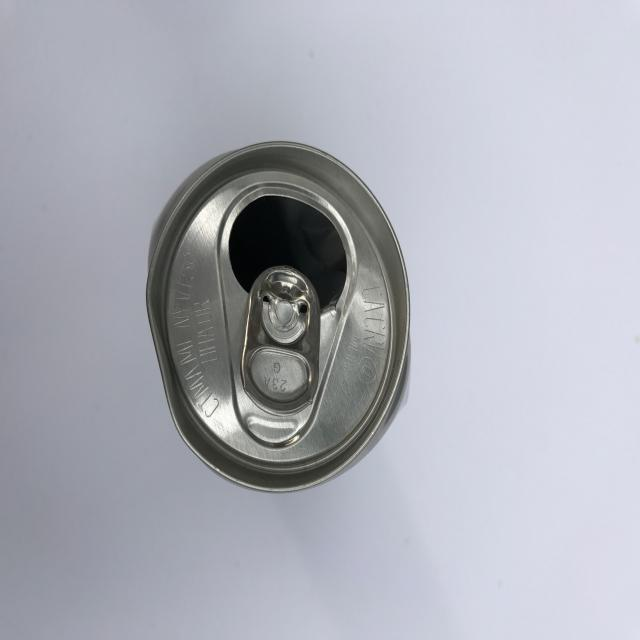metal: (145, 139, 411, 494)
